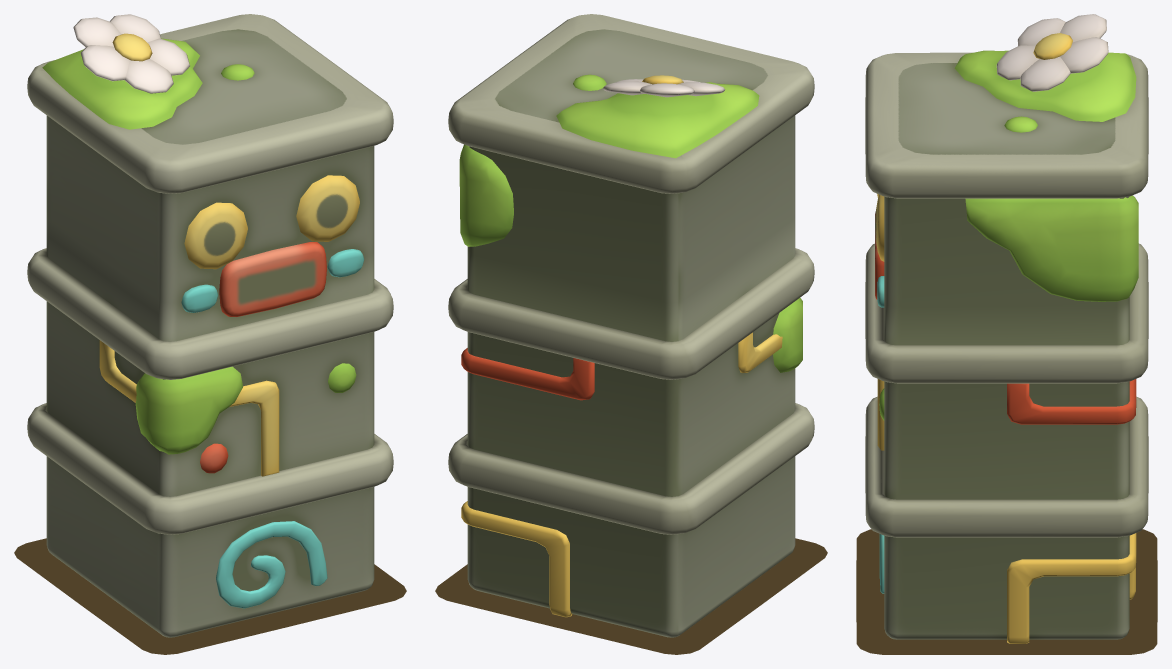
The model's file is RockSculp01.fbx.
3 views of the same model, side by side, from view 1: azimuth 30°, elevation 25°; view 2: azimuth 150°, elevation 25°; view 3: azimuth 270°, elevation 25° (orthographic).
Visible parts, largest first — view 1: polySurface2, polySurface1; view 2: polySurface2, polySurface1; view 3: polySurface2, polySurface1.
Part boxes in pixels (box(x1,y1,x2,y2)): polySurface2: box(27, 14, 393, 637); polySurface1: box(14, 538, 406, 654); polySurface2: box(448, 14, 814, 637); polySurface1: box(435, 538, 827, 654); polySurface2: box(865, 14, 1148, 643); polySurface1: box(856, 529, 1157, 654).
Size of the model in its own units: 186 by 364 by 186.
